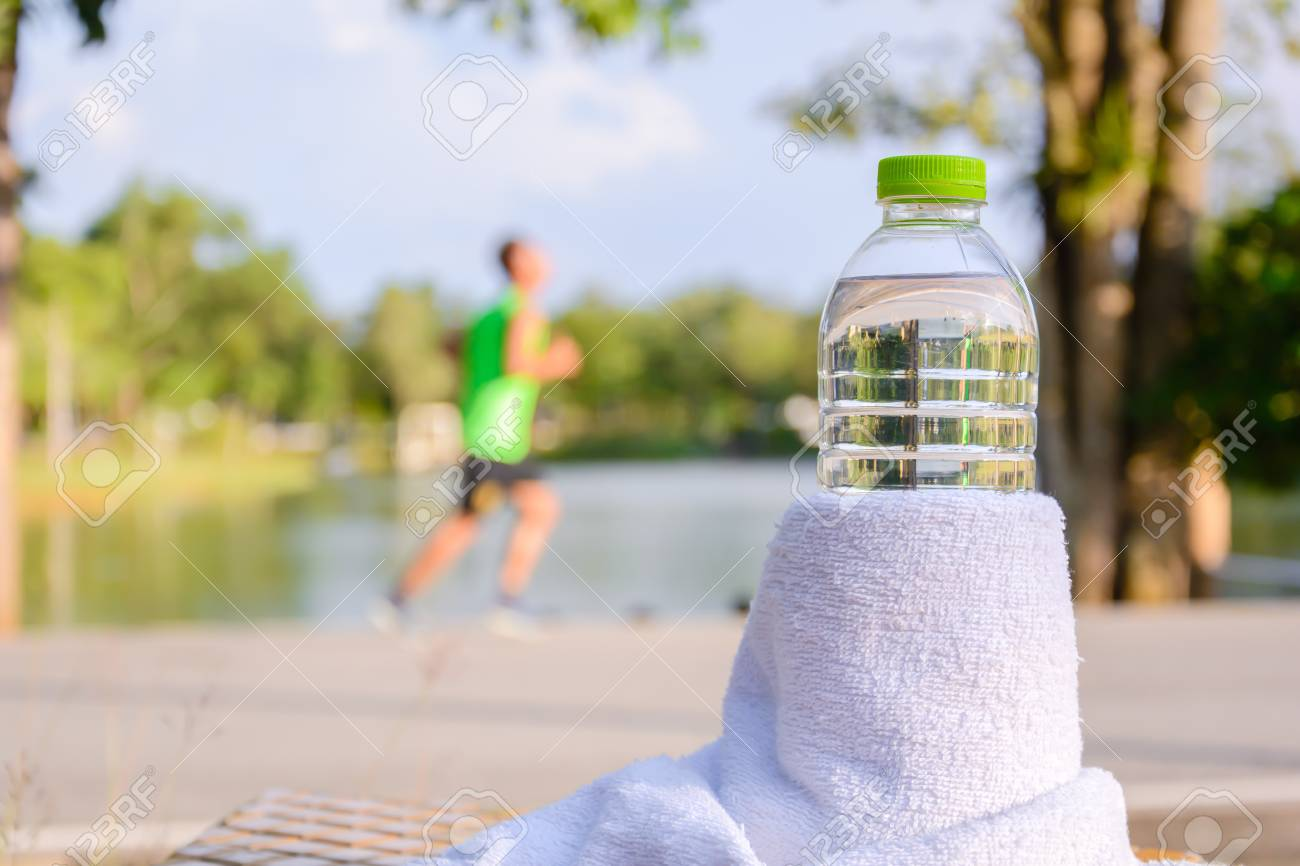bottle: (813, 155, 1039, 503)
